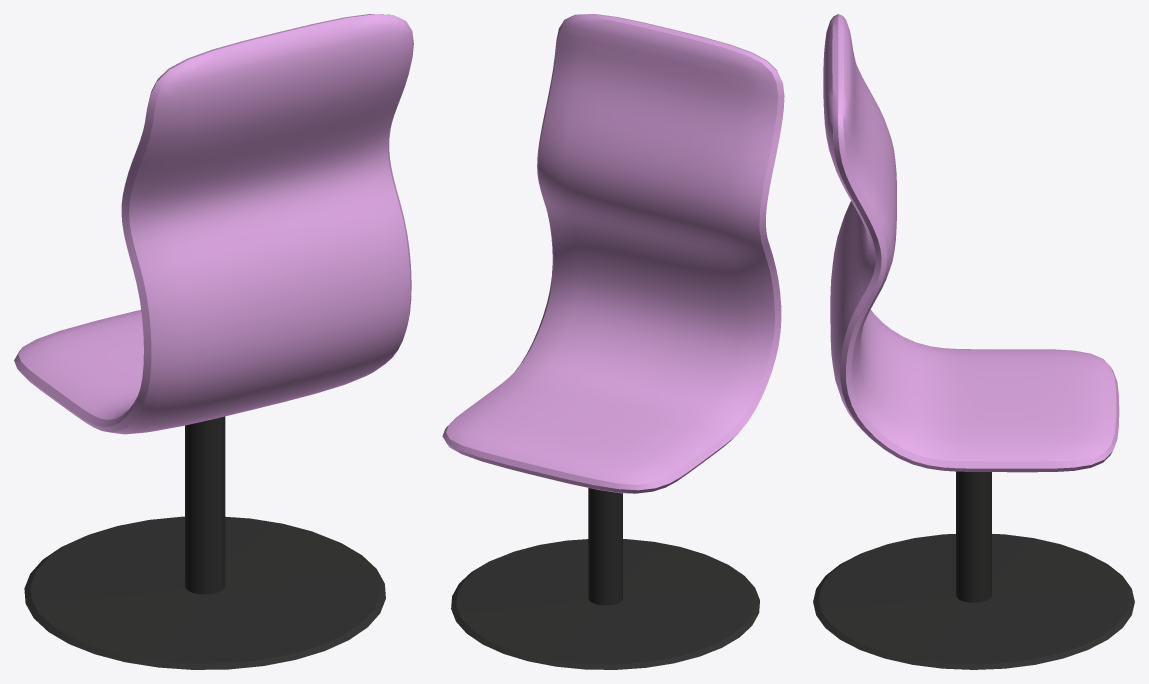
Rendered from S-Chair.fbx.
3 views of the same model, side by side, from view 1: azimuth 30°, elevation 25°; view 2: azimuth 150°, elevation 25°; view 3: azimuth 270°, elevation 25° (orthographic). The views are drawn at different scales.
Parts seen in each view (by area): view 1: S-Chair; view 2: S-Chair; view 3: S-Chair.
Boxes of the visible parts, box(x1,y1,x2,y2) form: S-Chair: box(14, 14, 413, 669); S-Chair: box(442, 14, 784, 669); S-Chair: box(813, 14, 1134, 669).
Bounding box in the file's own units: 0.4532 × 0.4532 × 0.8511.
